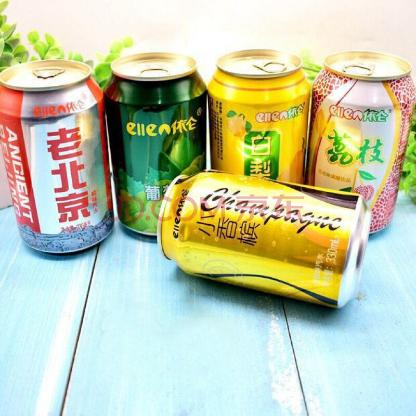Can: (158, 171, 370, 308), (0, 59, 114, 254), (306, 51, 416, 233), (104, 52, 206, 235), (208, 50, 310, 183)
